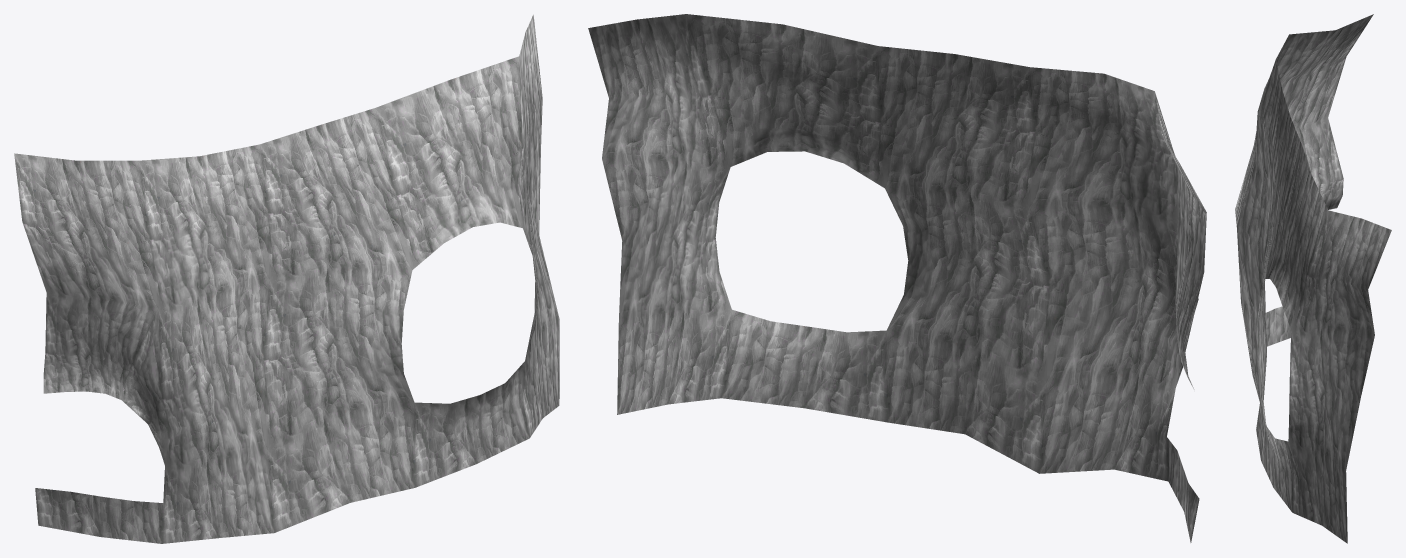
The model's file is SWORDLIGHT20_PS-AREA03_171.fbx.
The picture shows the model from 3 angles, left to right: view 1: azimuth 30°, elevation 25°; view 2: azimuth 150°, elevation 25°; view 3: azimuth 270°, elevation 25°; orthographic projection. The views are drawn at different scales.
Parts seen in each view (by area): view 1: SWORDLIGHT20_PS-AREA03_171; view 2: SWORDLIGHT20_PS-AREA03_171; view 3: SWORDLIGHT20_PS-AREA03_171.
Boxes of the visible parts, x1,y1,x2,y2 form: SWORDLIGHT20_PS-AREA03_171: [14, 14, 559, 543]; SWORDLIGHT20_PS-AREA03_171: [588, 14, 1206, 542]; SWORDLIGHT20_PS-AREA03_171: [1235, 14, 1391, 543].
Size of the model in its own units: 319188 by 221273 by 95561.
Materials: 2 (2 with a texture image).
